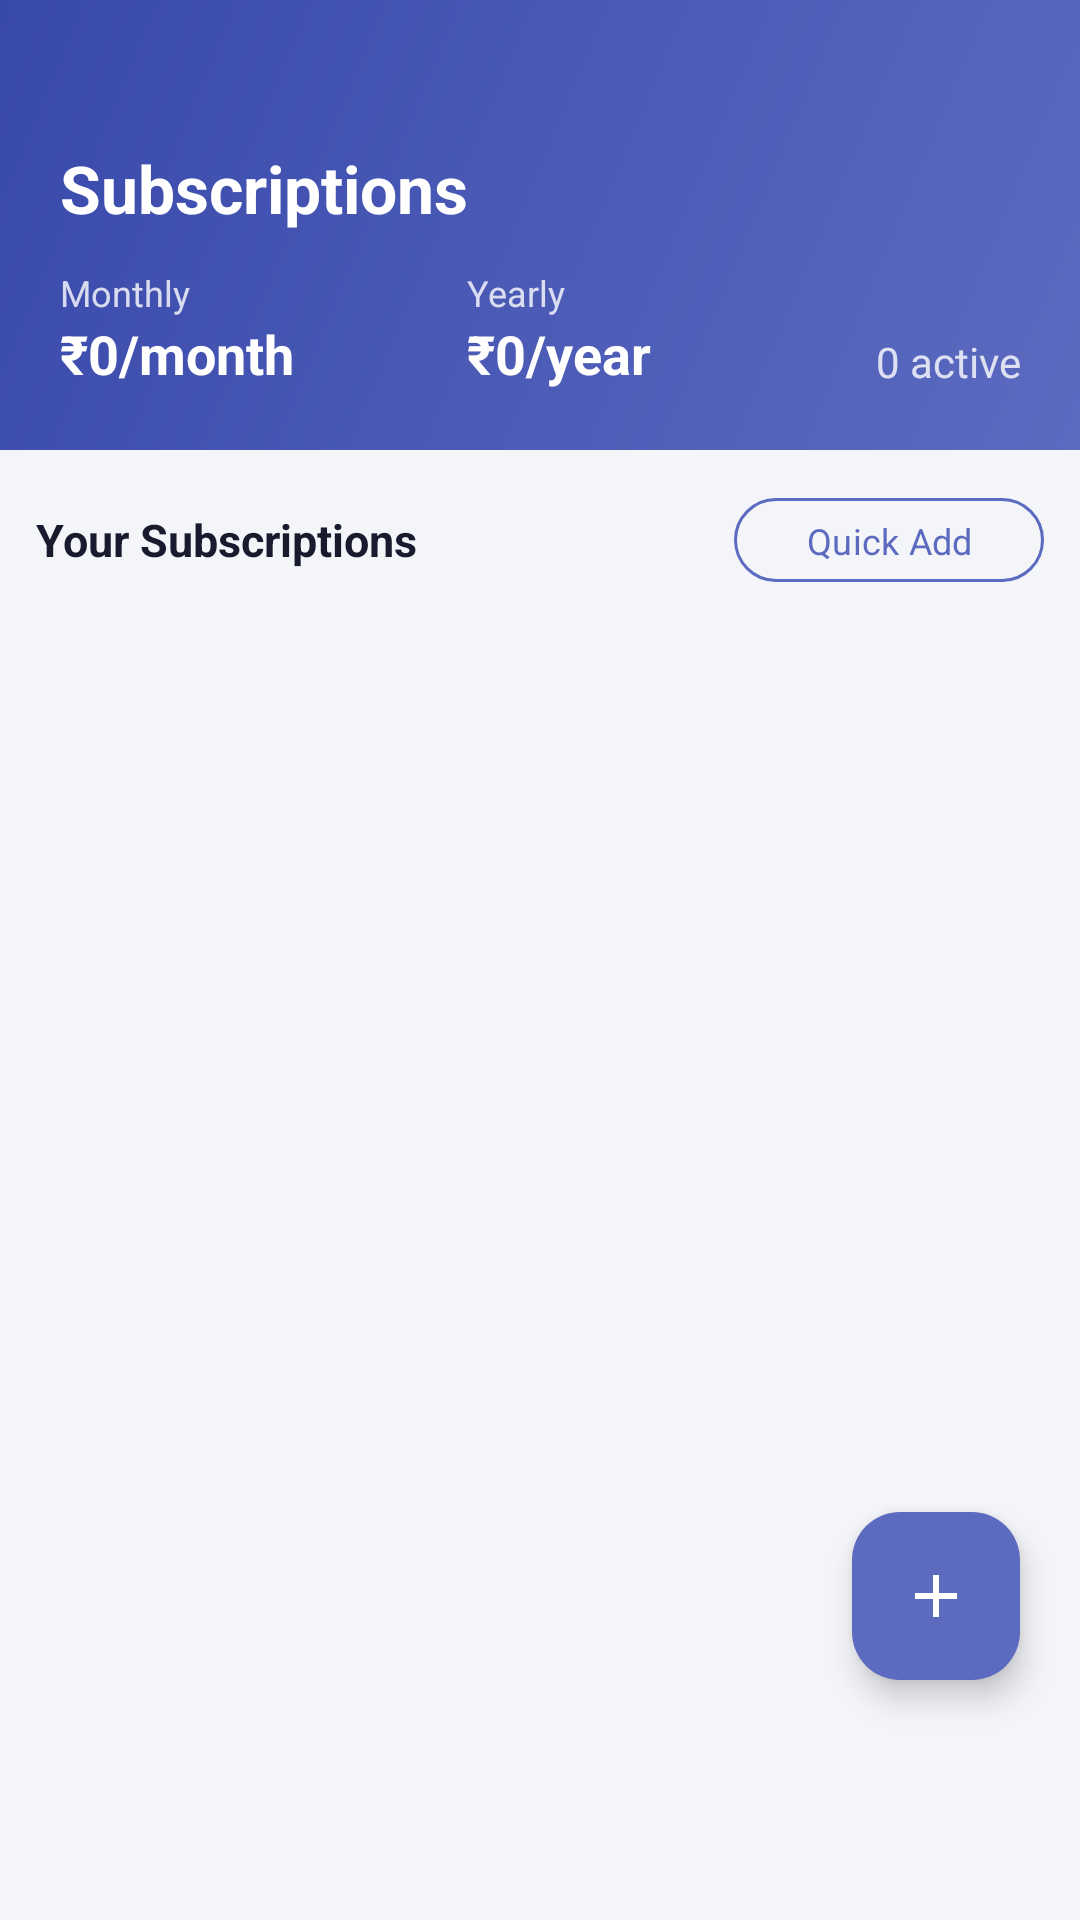

Where icons sit on this 1080*1920 app screen, as (x1, y1, x2, y2):
add: (852, 1512, 1020, 1680)
